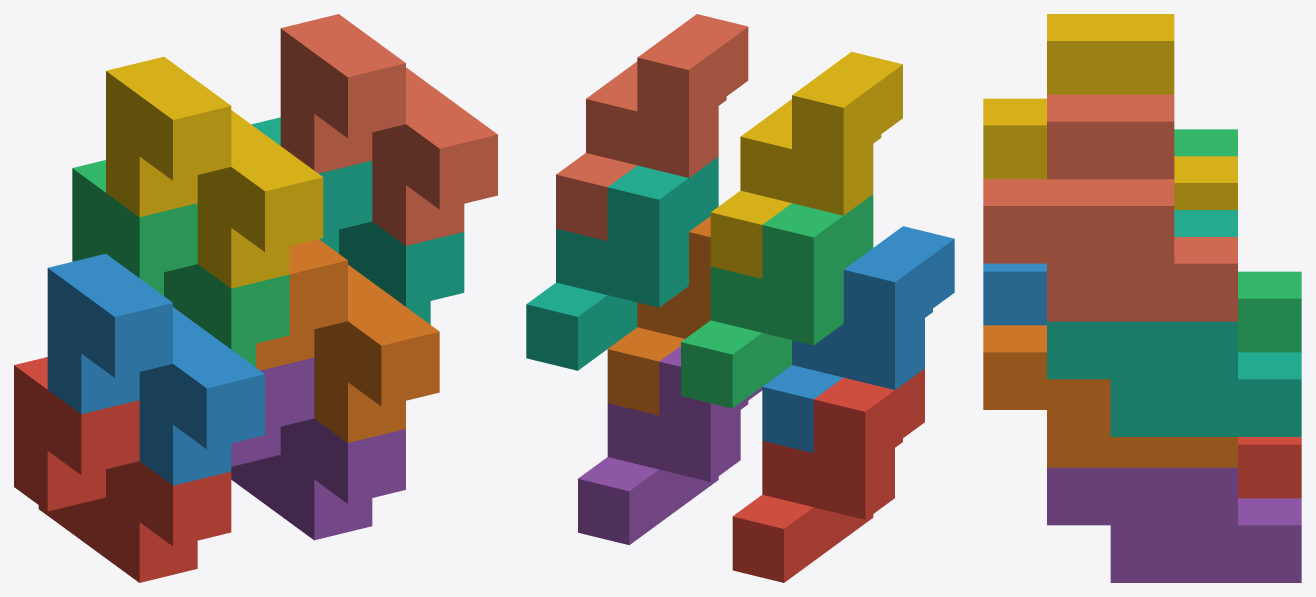
The model's file is tiling.obj.
3 renders of one model, left to right at view 1: azimuth 30°, elevation 25°; view 2: azimuth 150°, elevation 25°; view 3: azimuth 270°, elevation 25°, orthographic. The views are drawn at different scales.
Parts seen in each view (by area): view 1: copy_1_domain_2, copy_1_domain_4, copy_1_domain_8, copy_1_domain_1, copy_1_domain_6, copy_1_domain_5, copy_1_domain_3, copy_1_domain_7; view 2: copy_1_domain_1, copy_1_domain_4, copy_1_domain_3, copy_1_domain_8, copy_1_domain_7, copy_1_domain_2, copy_1_domain_5, copy_1_domain_6; view 3: copy_1_domain_8, copy_1_domain_7, copy_1_domain_5, copy_1_domain_4, copy_1_domain_6, copy_1_domain_3, copy_1_domain_2, copy_1_domain_1.
Part boxes in pixels (left/top/right/bottom): copy_1_domain_2: left=47, top=253, right=264, bottom=485; copy_1_domain_4: left=106, top=56, right=323, bottom=288; copy_1_domain_8: left=280, top=14, right=497, bottom=245; copy_1_domain_1: left=14, top=357, right=231, bottom=582; copy_1_domain_6: left=256, top=239, right=439, bottom=442; copy_1_domain_5: left=231, top=357, right=405, bottom=540; copy_1_domain_3: left=72, top=160, right=289, bottom=367; copy_1_domain_7: left=251, top=117, right=464, bottom=324; copy_1_domain_1: left=732, top=368, right=924, bottom=582; copy_1_domain_4: left=710, top=51, right=902, bottom=278; copy_1_domain_3: left=681, top=194, right=873, bottom=408; copy_1_domain_8: left=556, top=14, right=748, bottom=240; copy_1_domain_7: left=526, top=156, right=718, bottom=370; copy_1_domain_2: left=762, top=226, right=954, bottom=452; copy_1_domain_5: left=578, top=346, right=762, bottom=545; copy_1_domain_6: left=607, top=216, right=710, bottom=415; copy_1_domain_8: left=983, top=94, right=1237, bottom=321; copy_1_domain_7: left=1047, top=210, right=1301, bottom=436; copy_1_domain_5: left=1047, top=467, right=1301, bottom=582; copy_1_domain_4: left=983, top=14, right=1237, bottom=209; copy_1_domain_6: left=983, top=325, right=1237, bottom=467; copy_1_domain_3: left=1174, top=129, right=1301, bottom=352; copy_1_domain_2: left=983, top=263, right=1046, bottom=325; copy_1_domain_1: left=1238, top=437, right=1301, bottom=498.
Bounding box in the file's own units: 6 × 8 × 5.
